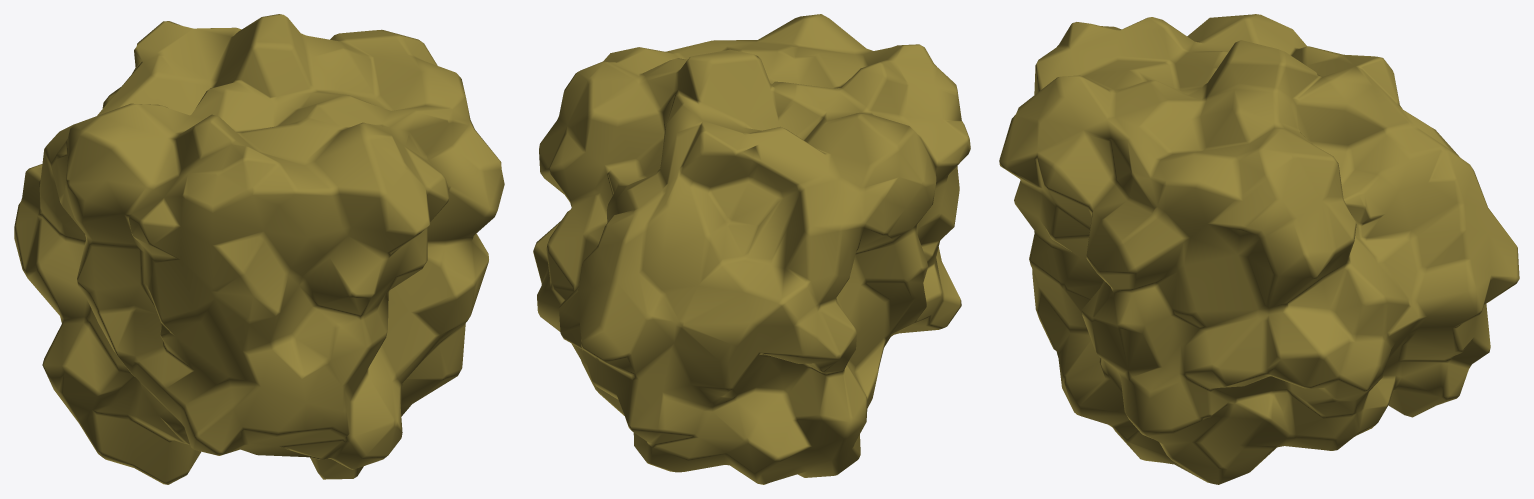
File: hvs_ore_depositlarge.fbx
3 renders of one model, left to right at view 1: azimuth 30°, elevation 25°; view 2: azimuth 150°, elevation 25°; view 3: azimuth 270°, elevation 25°, orthographic. The views are drawn at different scales.
Visible parts, largest first — view 1: Cube.012; view 2: Cube.012; view 3: Cube.012.
Part boxes in pixels (left/top/right/bottom): Cube.012: left=14, top=14, right=504, bottom=484; Cube.012: left=533, top=14, right=970, bottom=484; Cube.012: left=999, top=14, right=1519, bottom=484.
Size of the model in its own units: 16.24 by 17.28 by 19.35.
